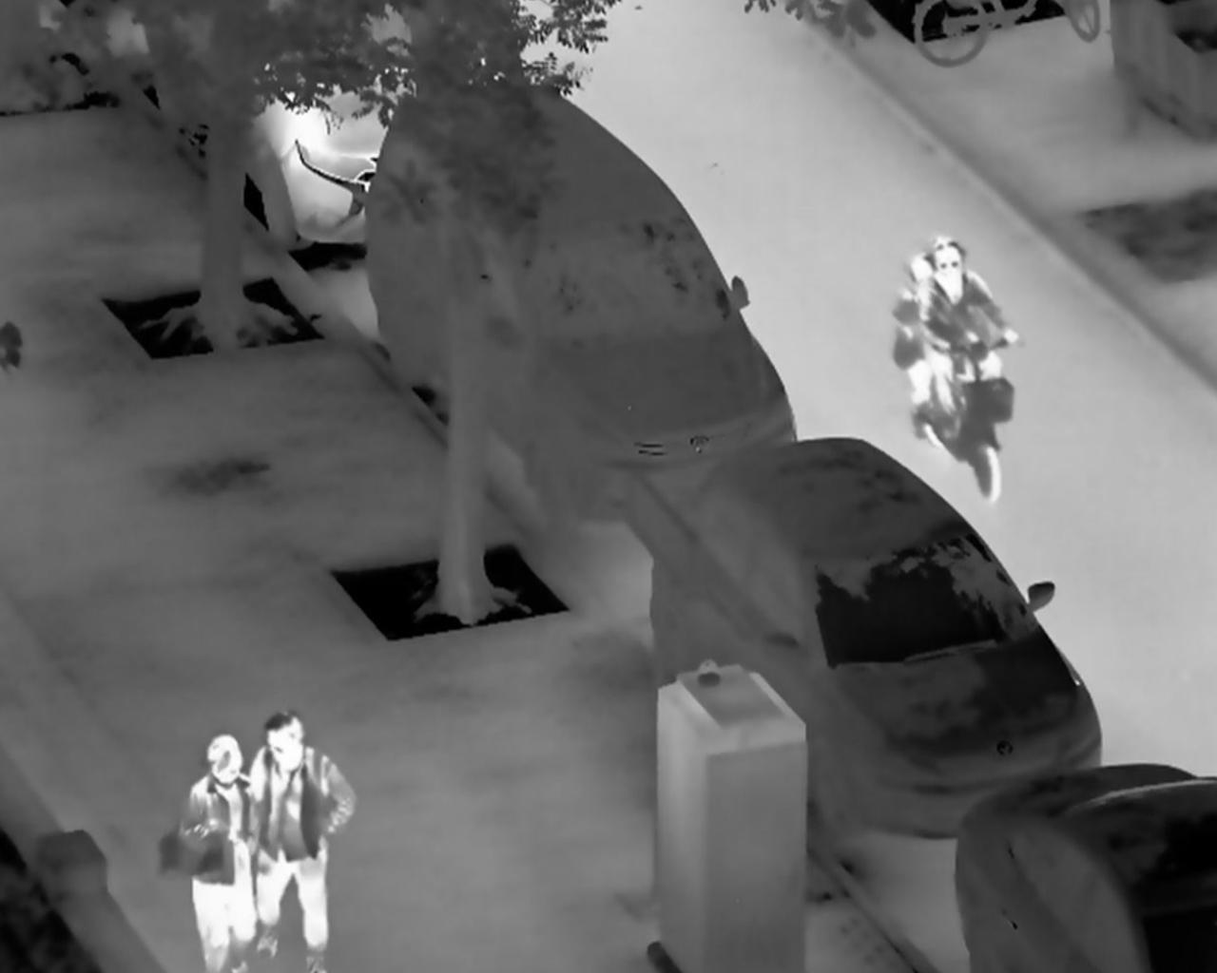person: (248, 712, 356, 973), (918, 235, 1018, 446), (180, 733, 261, 973)
